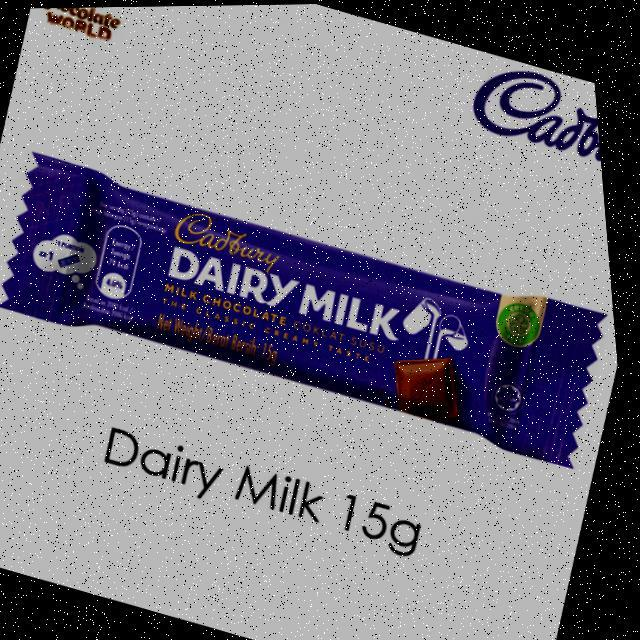cadbury_chocolate: (45, 164, 598, 468)
